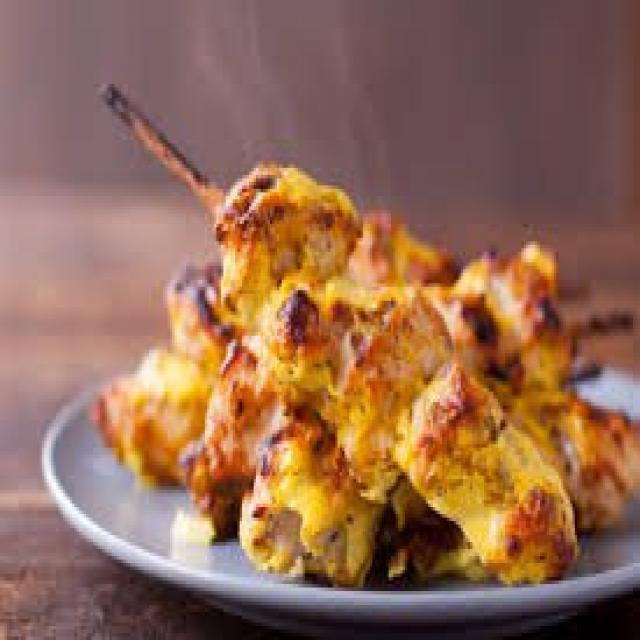Chicken Tikka: (86, 150, 640, 588)
